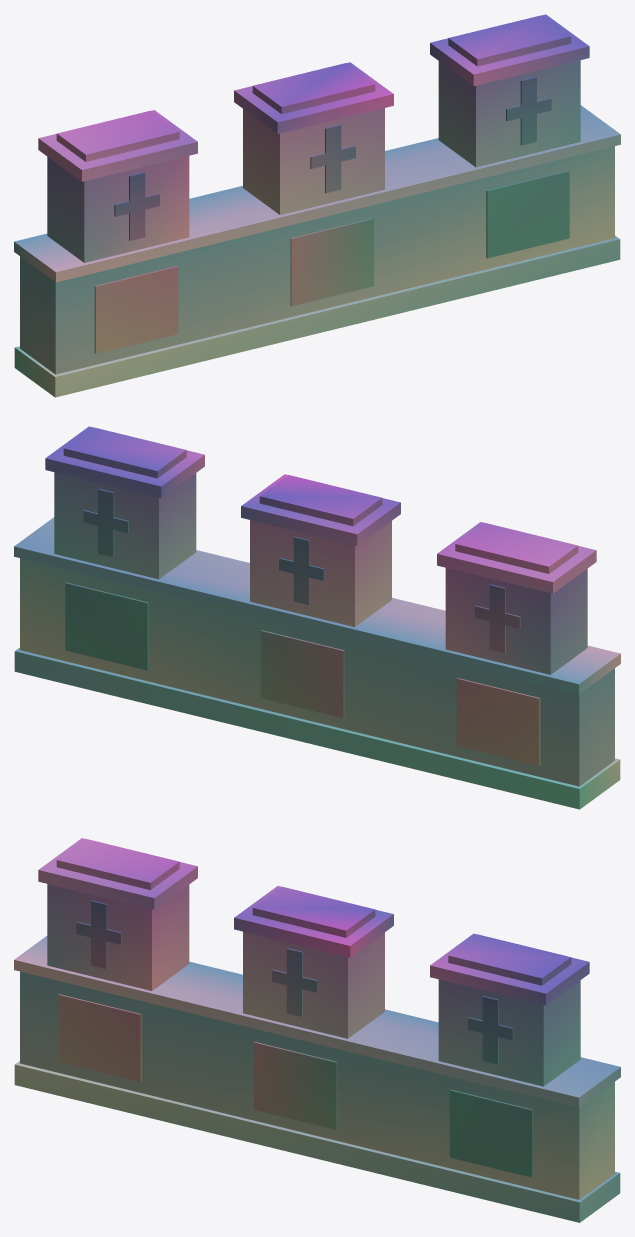
File: battlement_4m.glb
The picture shows the model from 3 angles, top to bottom: view 1: azimuth 30°, elevation 25°; view 2: azimuth 150°, elevation 25°; view 3: azimuth 330°, elevation 25°; orthographic projection.
Visible parts, largest first — view 1: battlement, battlement_trim, battlement_slits; view 2: battlement, battlement_trim, battlement_slits; view 3: battlement, battlement_trim, battlement_slits.
Part boxes in pixels (<box>): battlement: <box>20,60,614,374</box>; battlement_trim: <box>14,14,620,397</box>; battlement_slits: <box>94,77,569,353</box>; battlement: <box>20,472,614,786</box>; battlement_trim: <box>14,426,620,809</box>; battlement_slits: <box>65,489,540,765</box>; battlement: <box>20,884,614,1199</box>; battlement_trim: <box>14,838,620,1222</box>; battlement_slits: <box>58,900,533,1177</box>.
Size of the model in its own units: 4.04 by 1.57 by 0.54.
